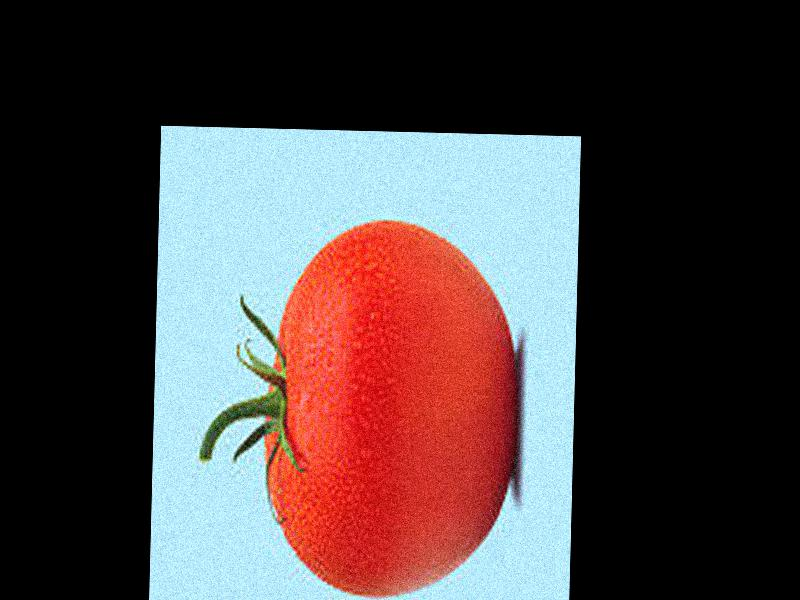Tomato: (263, 217, 517, 598)
